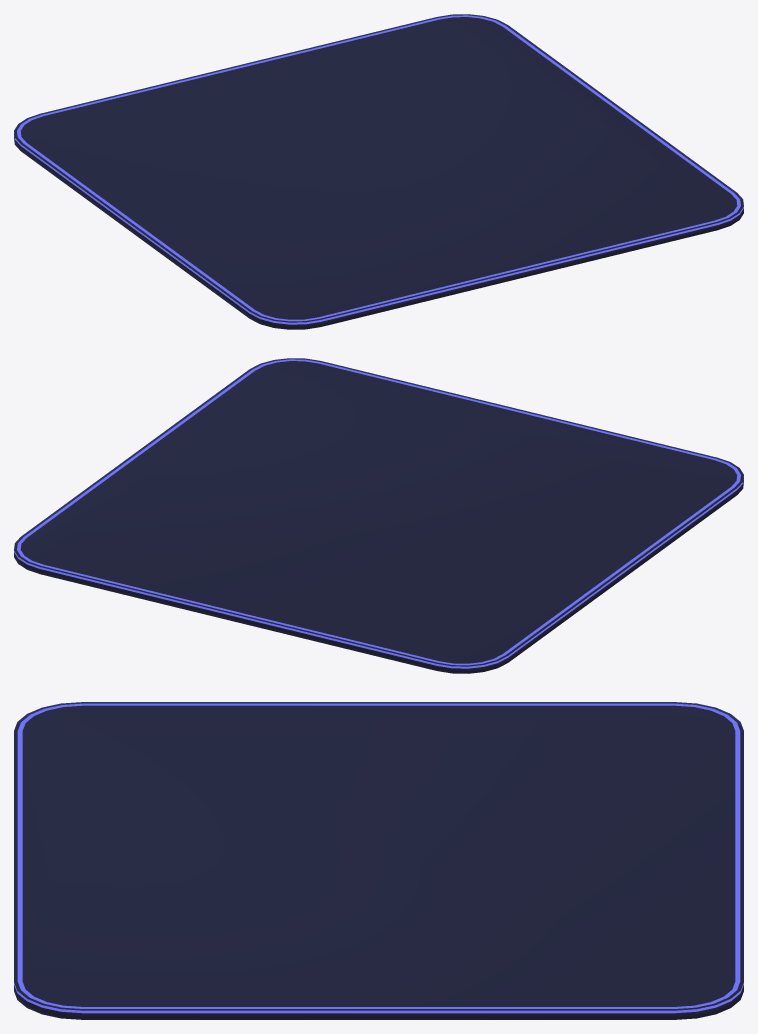
Rendered from base_dance.glb.
3 views of the same model, one above another, from view 1: azimuth 30°, elevation 25°; view 2: azimuth 150°, elevation 25°; view 3: azimuth 270°, elevation 25° (orthographic). The views are drawn at different scales.
Visible parts, largest first — view 1: Base_dance; view 2: Base_dance; view 3: Base_dance.
Part boxes in pixels (<box>): Base_dance: <box>14,14,743,329</box>; Base_dance: <box>14,358,743,673</box>; Base_dance: <box>14,702,743,1019</box>.
Size of what is drawn, in the model's own units: 32 by 0.45 by 32.
